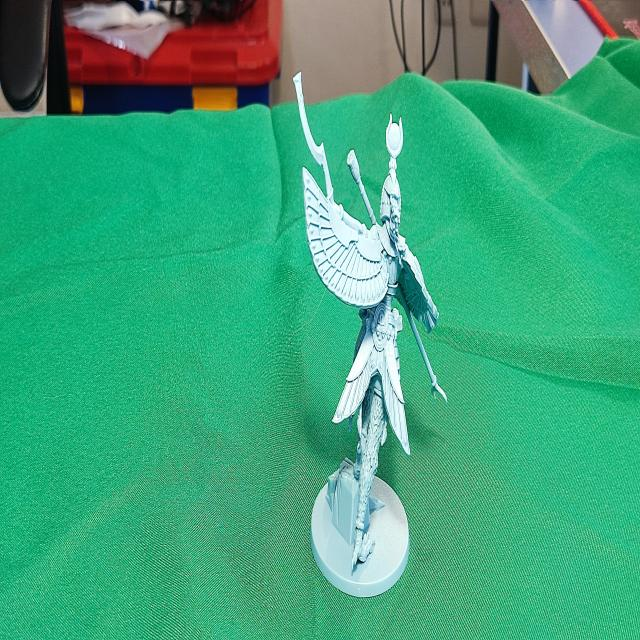isis: (284, 43, 454, 626)
